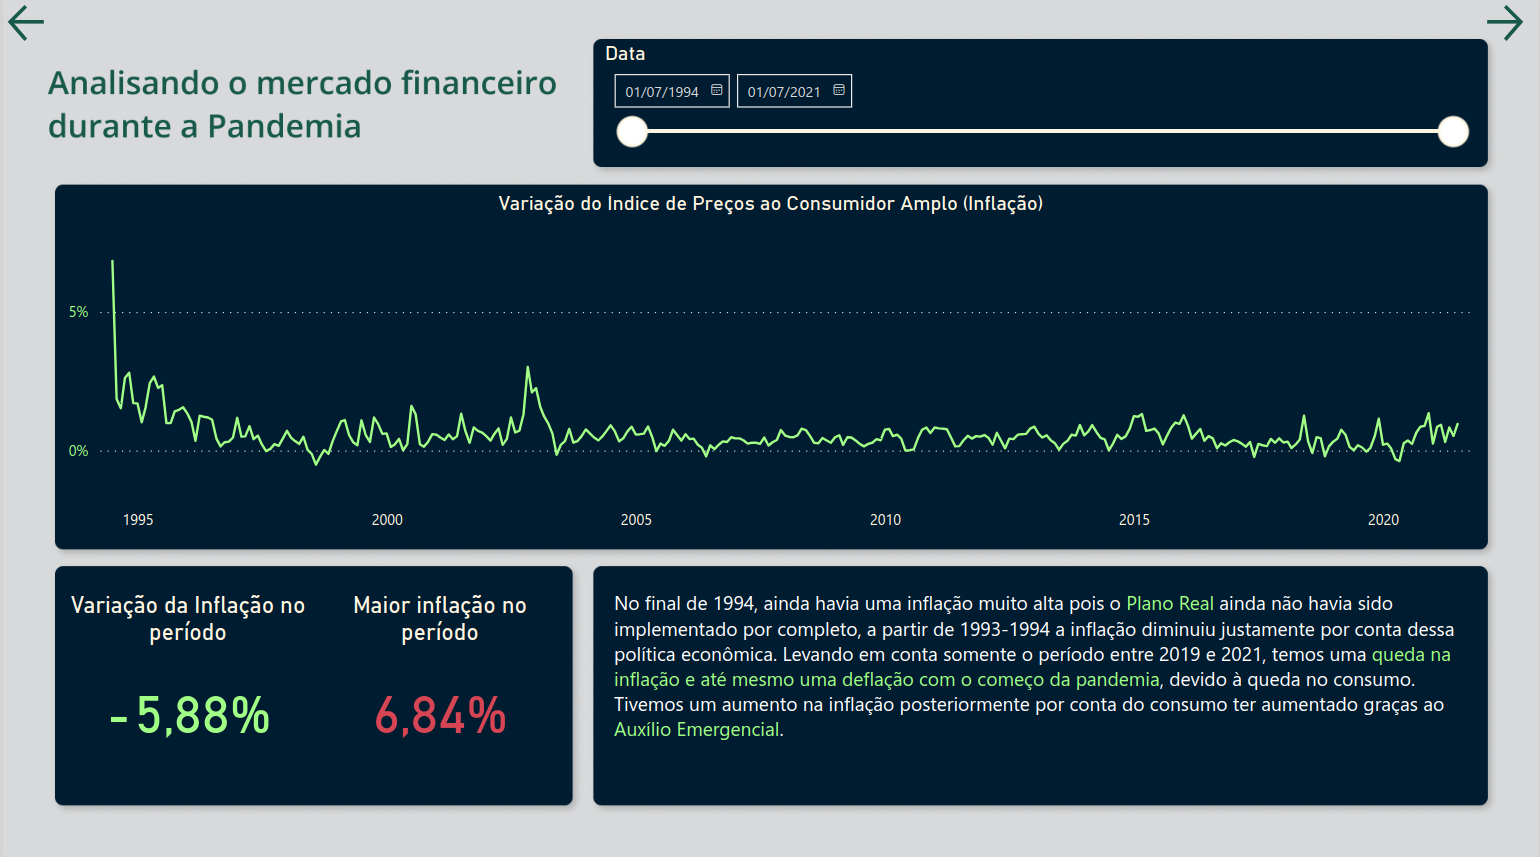

The page's visual inventory and layout, read from the dashboard file:
{"tool":"powerbi","page":{"name":"IPCA","canvas":[1280,720],"ordinal":1},"visuals":[{"type":"slicer","title":"Data","fields":{"Values":["ipca.DATA"]},"box":[496.6,37.9,733.8,96.2],"z":0},{"type":"lineChart","title":"Variação do Índice de Preços ao Consumidor Amplo (Inflação)","fields":{"Category":["ipca.DATA"],"Y":["Sum(ipca.IPCA)"]},"box":[49.6,162.3,1180.9,289.6],"z":1000},{"type":"card","title":"Variação da Inflação no período","fields":{"Values":["Medidas.VariacaoIPCA"]},"box":[49.6,495.7,209.9,154.5],"z":2000},{"type":"card","title":"Maior inflação no período","fields":{"Values":["Max(ipca.IPCA)"]},"box":[259.5,495.7,209.9,154.5],"z":3000},{"type":"textbox","box":[504.4,487.9,718.2,169.1],"z":4000},{"type":"actionButton","box":[1230.4,0,49.6,39.8],"z":5000},{"type":"actionButton","box":[0,0,49.6,39.8],"z":6000}]}

Visuals, with their boxes in screenshot pixels (x1, y1, x2, y2), scaled from the page's 1280x720 canvas onto the 1540x857 screenshot:
"Data" slicer: x1=597 y1=45 x2=1480 y2=160
"Variação do Índice de Preços ao Consumidor Amplo (Inflação)" lineChart: x1=60 y1=193 x2=1480 y2=538
"Variação da Inflação no período" card: x1=60 y1=590 x2=312 y2=774
"Maior inflação no período" card: x1=312 y1=590 x2=565 y2=774
textbox: x1=607 y1=581 x2=1471 y2=782
actionButton: x1=1480 y1=0 x2=1539 y2=47
actionButton: x1=0 y1=0 x2=60 y2=47
